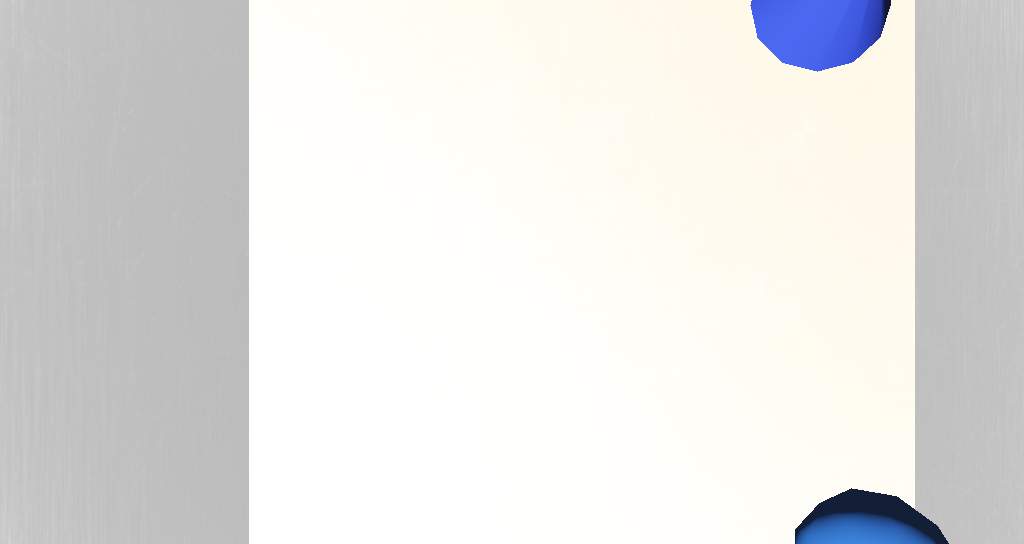cone: (502, 43, 563, 110)
cylinder: (583, 150, 657, 203)
sphere: (593, 336, 660, 379)
